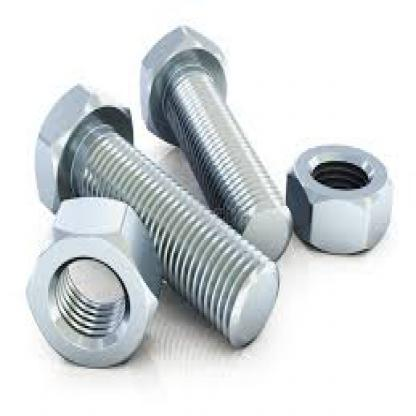METAL: (34, 82, 276, 348), (138, 26, 291, 259), (22, 195, 160, 365), (284, 142, 392, 253)
